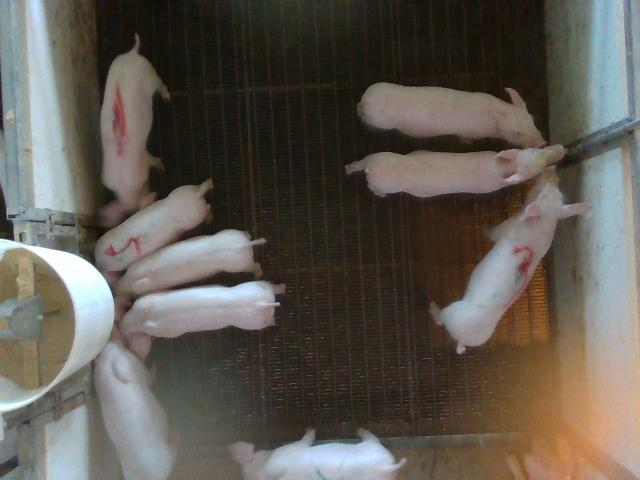pig-1: (100, 35, 170, 228)
pig-3: (430, 166, 591, 353)
pig-5: (96, 179, 212, 271)
